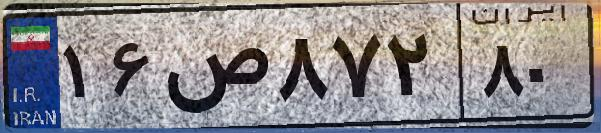0: (525, 38, 570, 115)
1: (57, 26, 110, 100)
2: (385, 28, 445, 110)
6: (110, 28, 158, 98)
7: (330, 28, 385, 110)
8: (270, 28, 330, 110), (475, 38, 525, 113)
ص: (158, 20, 270, 120)
